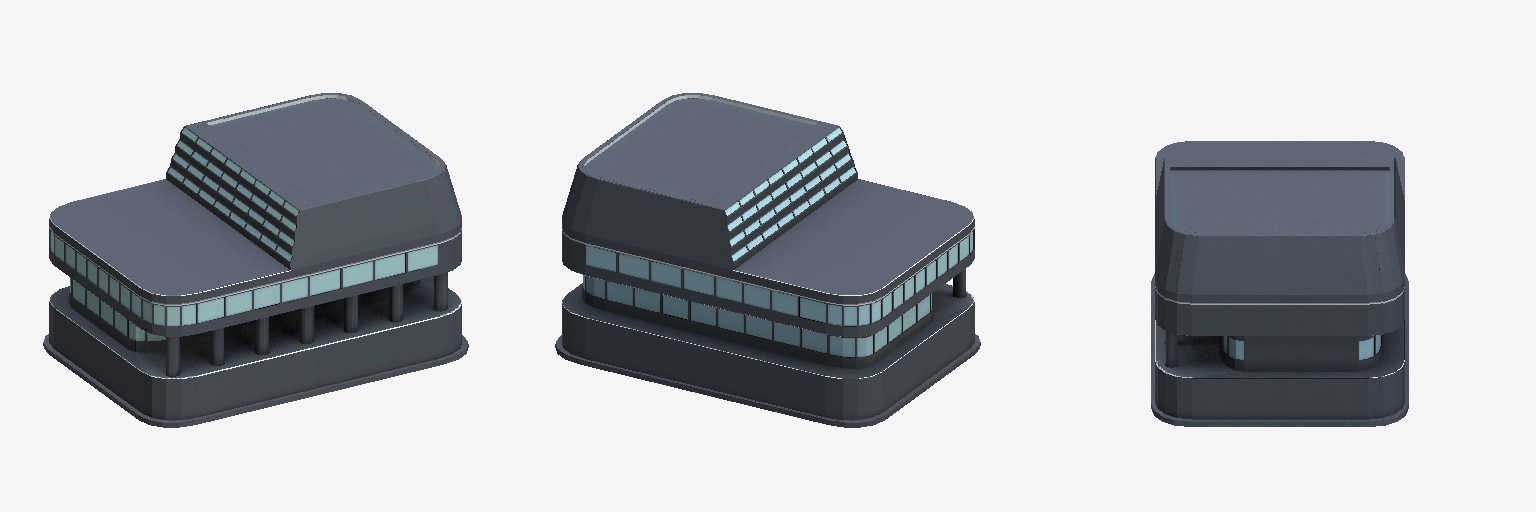
3 views of the same model, side by side, from view 1: azimuth 30°, elevation 25°; view 2: azimuth 150°, elevation 25°; view 3: azimuth 270°, elevation 25° (orthographic).
Parts seen in each view (by area): view 1: blok_4.002_Plane.000; view 2: blok_4.002_Plane.000; view 3: blok_4.002_Plane.000.
Boxes of the visible parts, box(x1,y1,x2,y2) form: blok_4.002_Plane.000: box(43, 93, 468, 427); blok_4.002_Plane.000: box(555, 93, 980, 427); blok_4.002_Plane.000: box(1151, 141, 1408, 426).
Size of the model in its own units: 59.98 by 32.2 by 41.11.
3 materials, 1 textured.